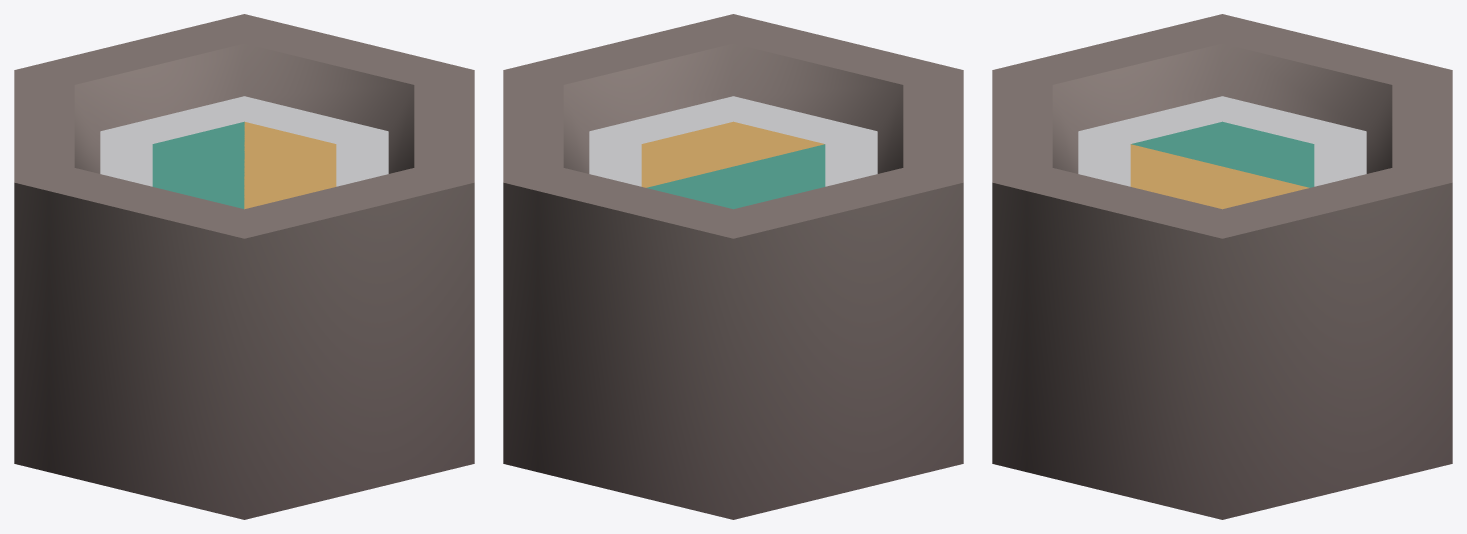
The model's file is maki-vegetable.glb.
3 views of the same model, side by side, from view 1: azimuth 30°, elevation 25°; view 2: azimuth 150°, elevation 25°; view 3: azimuth 270°, elevation 25° (orthographic).
Visible parts, largest first — view 1: maki-vegetable; view 2: maki-vegetable; view 3: maki-vegetable.
Boxes of the visible parts, box(x1,y1,x2,y2) form: maki-vegetable: box(14, 14, 474, 519); maki-vegetable: box(503, 14, 963, 519); maki-vegetable: box(992, 14, 1452, 519).
Size of the model in its own units: 0.12 by 0.07 by 0.1039.
